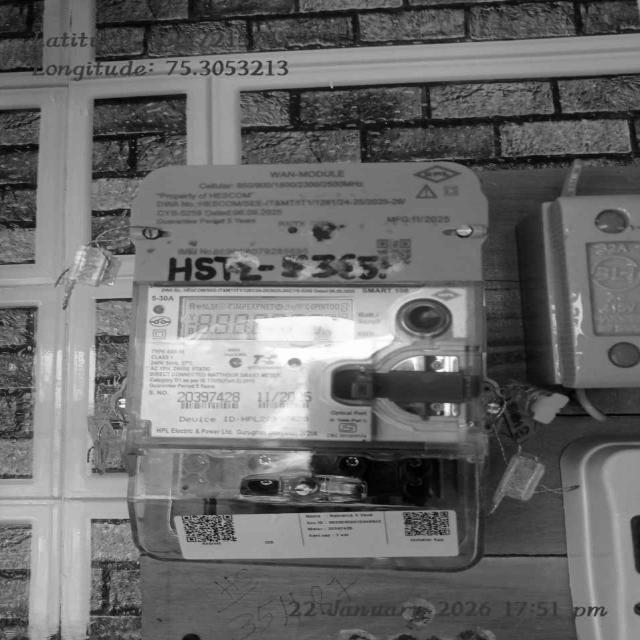meter: (145, 285, 474, 442)
